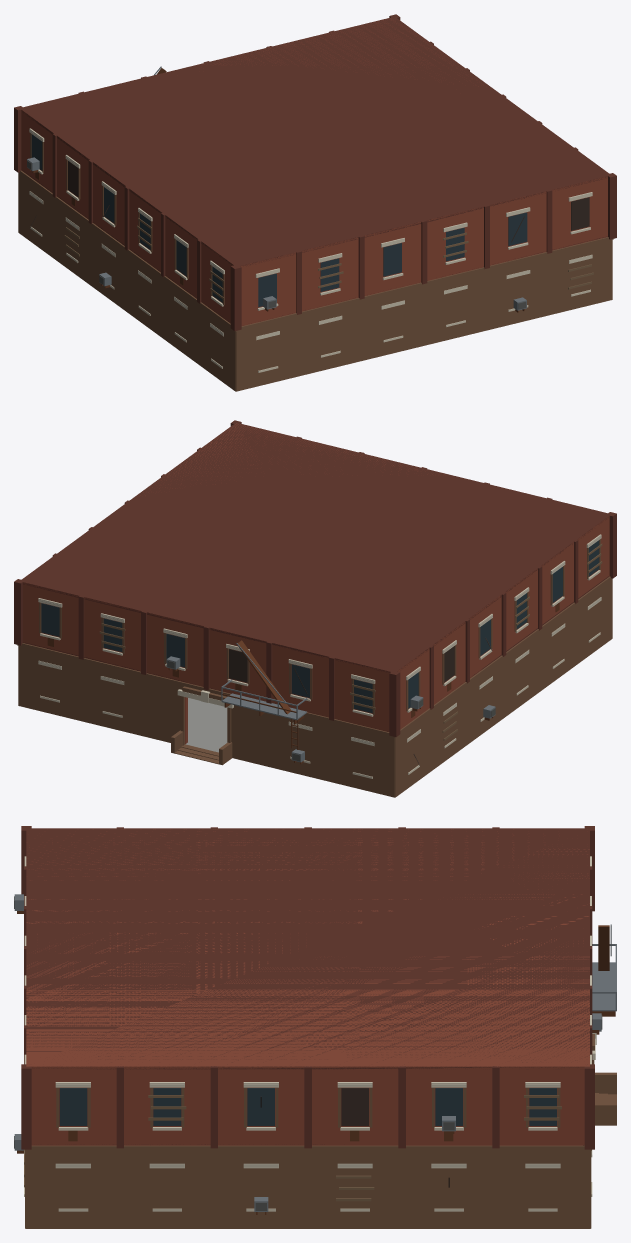
Rendered from tw_brick_24_base.glb.
3 renders of one model, top to bottom at view 1: azimuth 30°, elevation 25°; view 2: azimuth 150°, elevation 25°; view 3: azimuth 270°, elevation 25°, orthographic. The views are drawn at different scales.
Parts seen in each view (by area): view 1: tw_brick_24_base; view 2: tw_brick_24_base; view 3: tw_brick_24_base.
Part boxes in pixels (bbox=[...]): tw_brick_24_base: bbox=[14, 14, 616, 391]; tw_brick_24_base: bbox=[14, 420, 616, 797]; tw_brick_24_base: bbox=[14, 826, 616, 1228].
Size of what is drawn, in the model's own units: 25.06 by 7.6 by 25.68.
2 materials, 2 textured.
